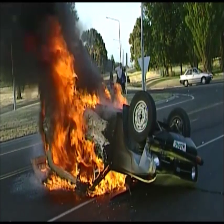fire_h: (43, 16, 108, 185), (88, 169, 128, 196), (44, 172, 76, 191)
fire_l: (114, 84, 127, 108), (42, 131, 50, 151), (103, 86, 111, 103), (41, 159, 51, 171)
